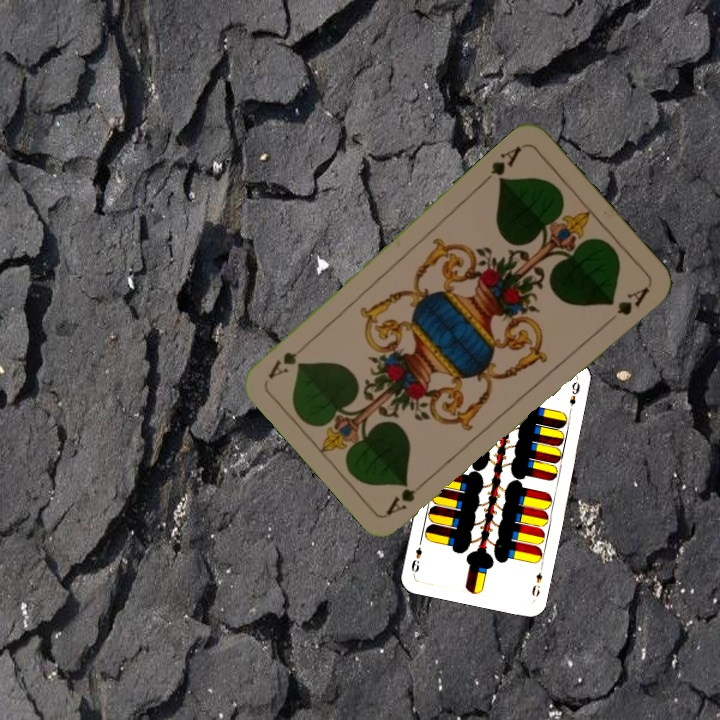E9: (528, 562, 545, 599)
GA: (382, 474, 432, 518), (478, 141, 524, 187)
